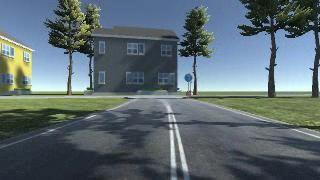turn_left: (184, 73, 192, 82)
